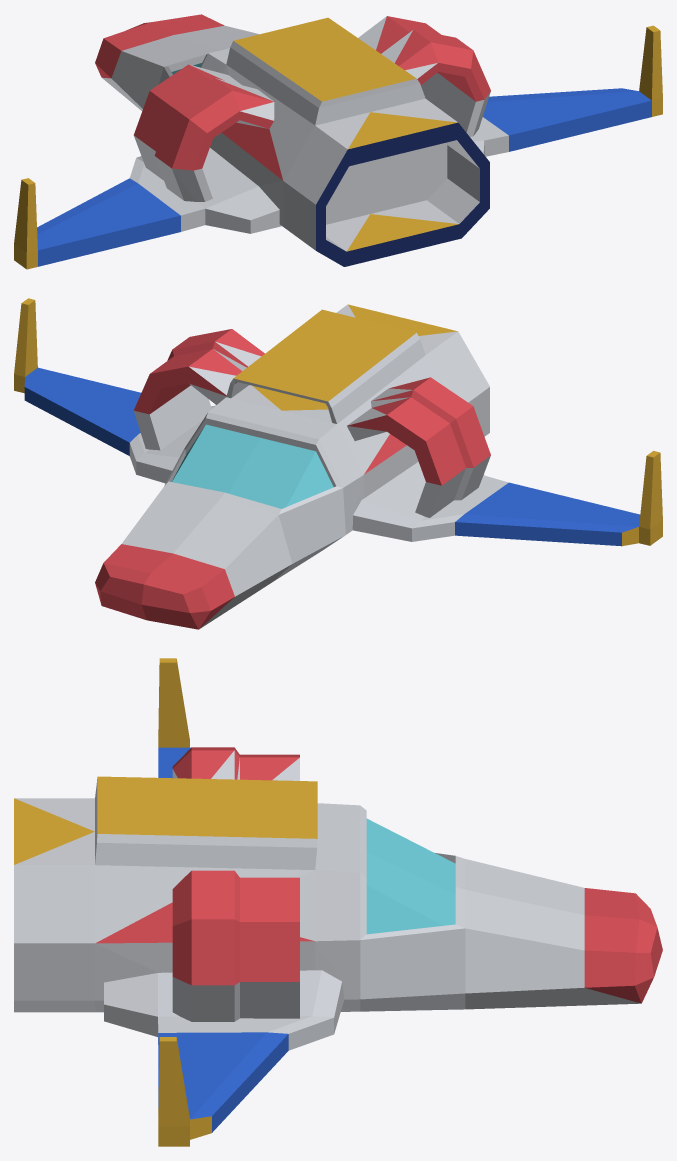
File: fighter.glb
3 renders of one model, top to bottom at view 1: azimuth 30°, elevation 25°; view 2: azimuth 150°, elevation 25°; view 3: azimuth 270°, elevation 25°, orthographic. The views are drawn at different scales.
Parts seen in each view (by area): view 1: Spaceship5; view 2: Spaceship5; view 3: Spaceship5.
Boxes of the visible parts, x1,y1,x2,y2 form: Spaceship5: [14, 14, 662, 269]; Spaceship5: [14, 298, 662, 629]; Spaceship5: [14, 658, 662, 1146].
Bounding box in the file's own units: 9.56 × 1.99 × 6.81.
